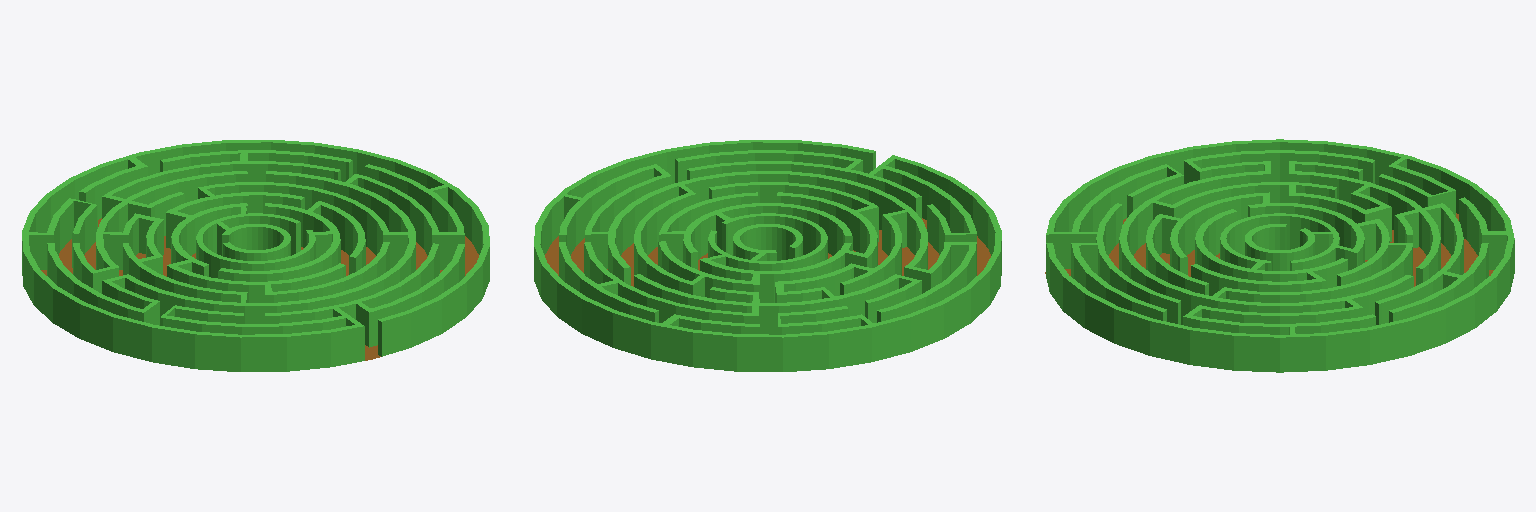
Rendered from Labirinto.obj.
3 renders of one model, left to right at view 1: azimuth 30°, elevation 25°; view 2: azimuth 150°, elevation 25°; view 3: azimuth 270°, elevation 25°, orthographic.
Parts seen in each view (by area): view 1: Cilindro; view 2: Cilindro; view 3: Cilindro.
Part boxes in pixels (x1,y1,x2,y2): Cilindro: (22,140,489,371); Cilindro: (534,140,1001,371); Cilindro: (1045,139,1514,372).
Size of the model in its own units: 7.93 by 0.6514 by 7.93.